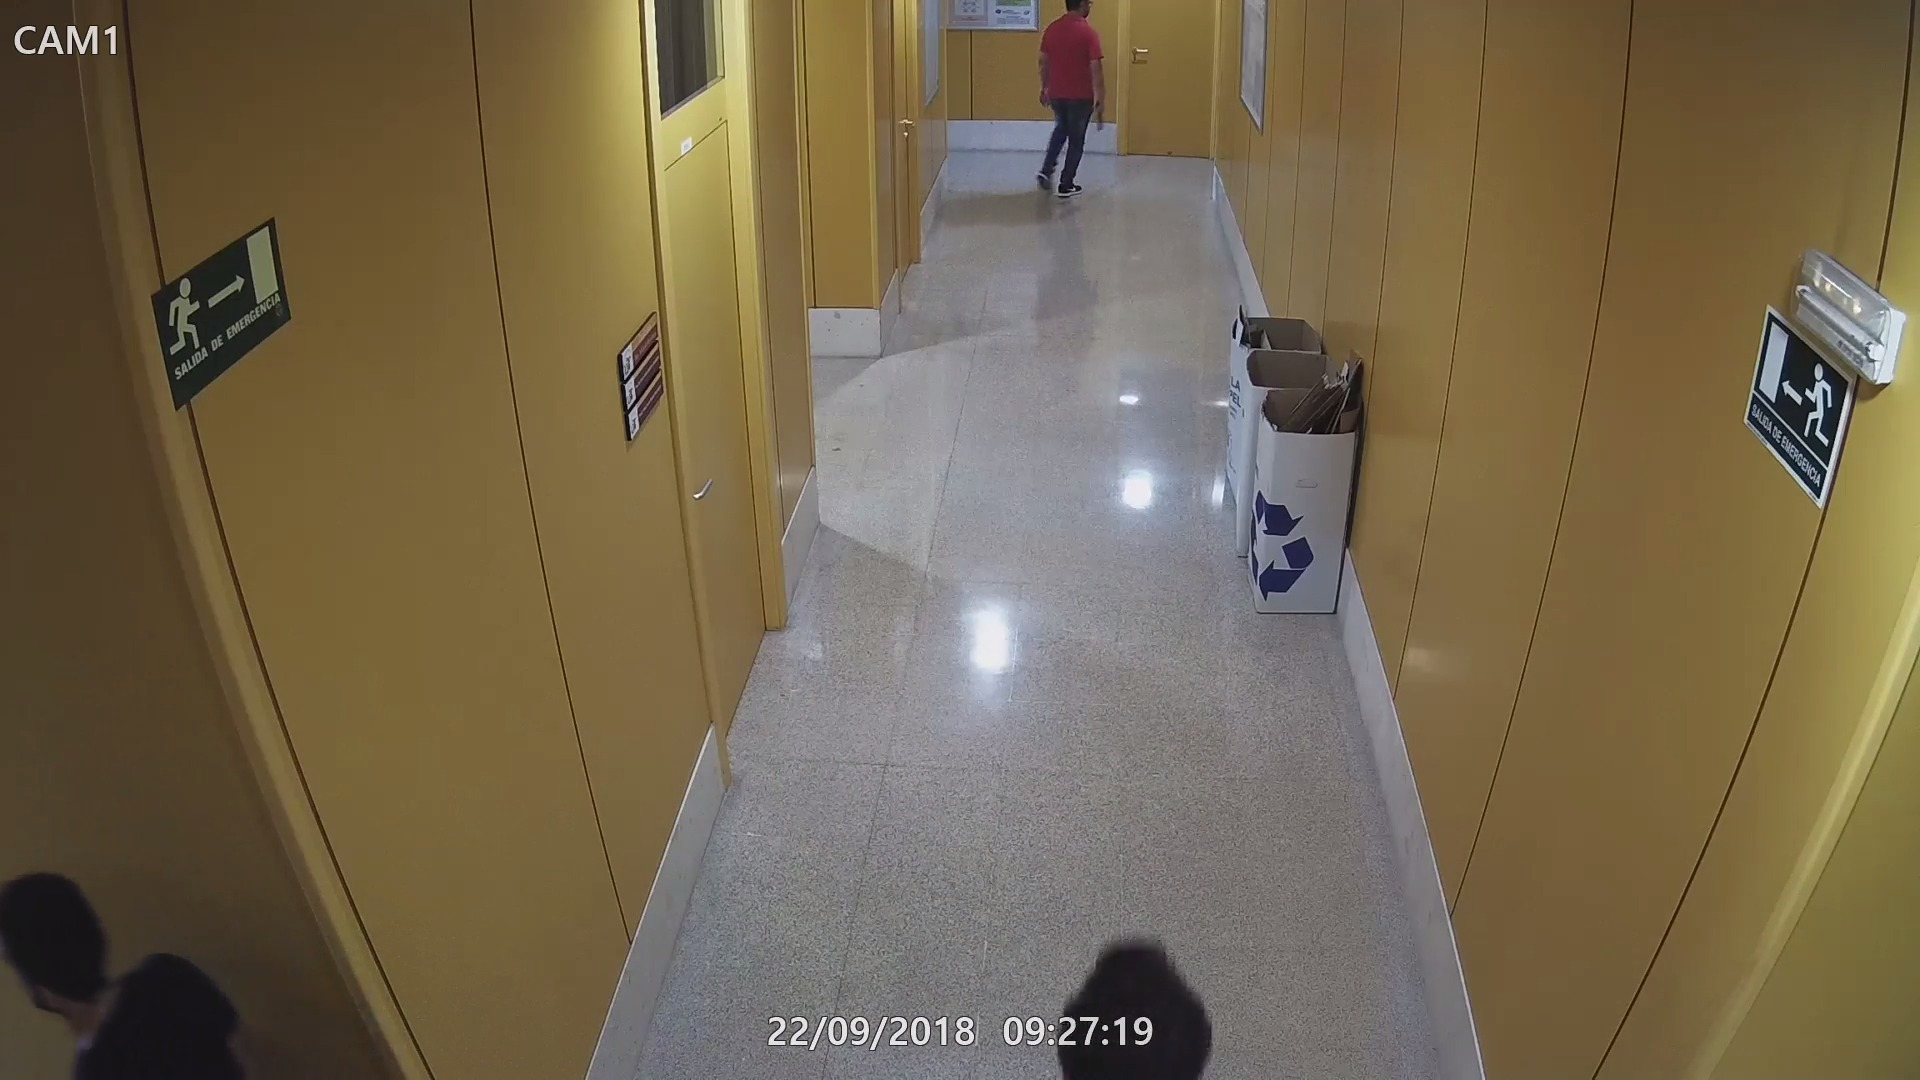Handgun: (1087, 94, 1113, 132)
